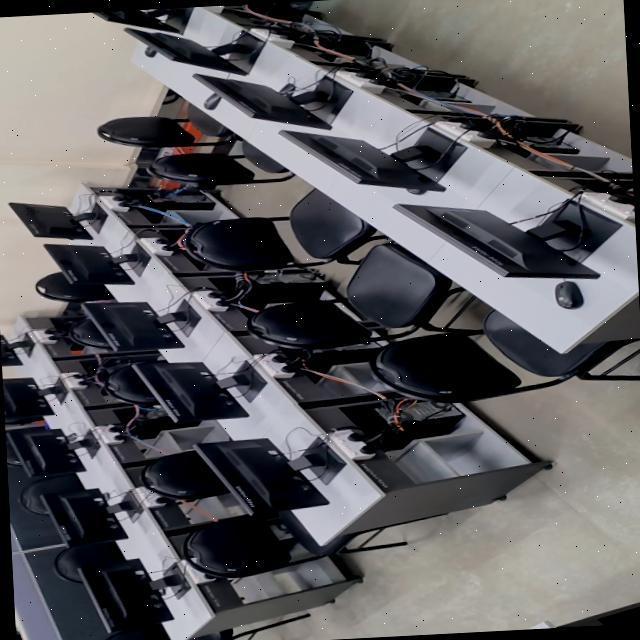Chair: (248, 241, 482, 349), (369, 309, 640, 402), (183, 187, 388, 270), (183, 510, 422, 577), (146, 139, 295, 188), (97, 103, 240, 147), (140, 449, 229, 501), (188, 612, 310, 640), (54, 540, 125, 581), (19, 473, 82, 513), (36, 272, 114, 302), (104, 364, 157, 405), (68, 318, 111, 349), (103, 623, 172, 640), (6, 442, 21, 465), (5, 417, 42, 425)
Cpu: (114, 187, 213, 207), (401, 401, 461, 420), (252, 269, 324, 283), (374, 401, 394, 423)
Monitor: (401, 205, 599, 278), (279, 129, 445, 193), (195, 438, 328, 513), (194, 74, 352, 128), (131, 360, 248, 421), (78, 558, 173, 631), (125, 28, 247, 74), (82, 300, 191, 351), (40, 488, 130, 546), (6, 428, 90, 475), (45, 243, 133, 284), (9, 202, 92, 239), (3, 377, 53, 422), (91, 7, 180, 32), (0, 334, 22, 365), (217, 42, 247, 52)
Mouse: (555, 280, 583, 308), (204, 92, 221, 109), (145, 47, 156, 56)
